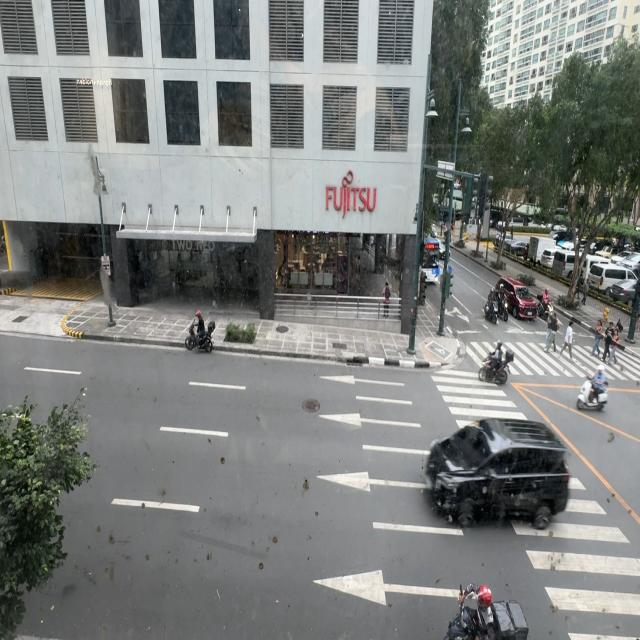crossing: (608, 324, 623, 367), (560, 320, 574, 362), (590, 319, 604, 358), (544, 310, 556, 353), (602, 323, 614, 363)
pedestrain: (577, 271, 585, 303)
